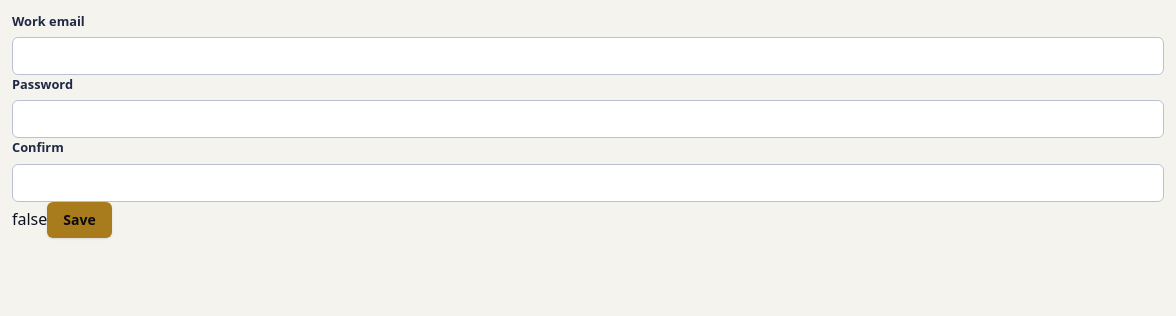
useFormValidation › reveals every message on submit, including fields never touched
Click the button "Save" at (80, 220), box x1=47 y1=202 x2=112 y2=238
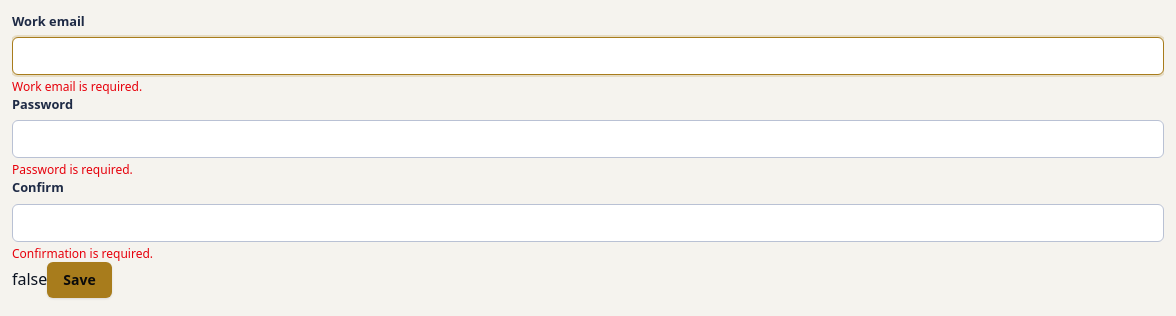
Now the text "Work email is required." is shown, box x1=12 y1=78 x2=142 y2=95
Now the text "Password is required." is shown, box x1=12 y1=161 x2=133 y2=178
Now the text "Confirmation is required." is shown, box x1=12 y1=245 x2=153 y2=262
